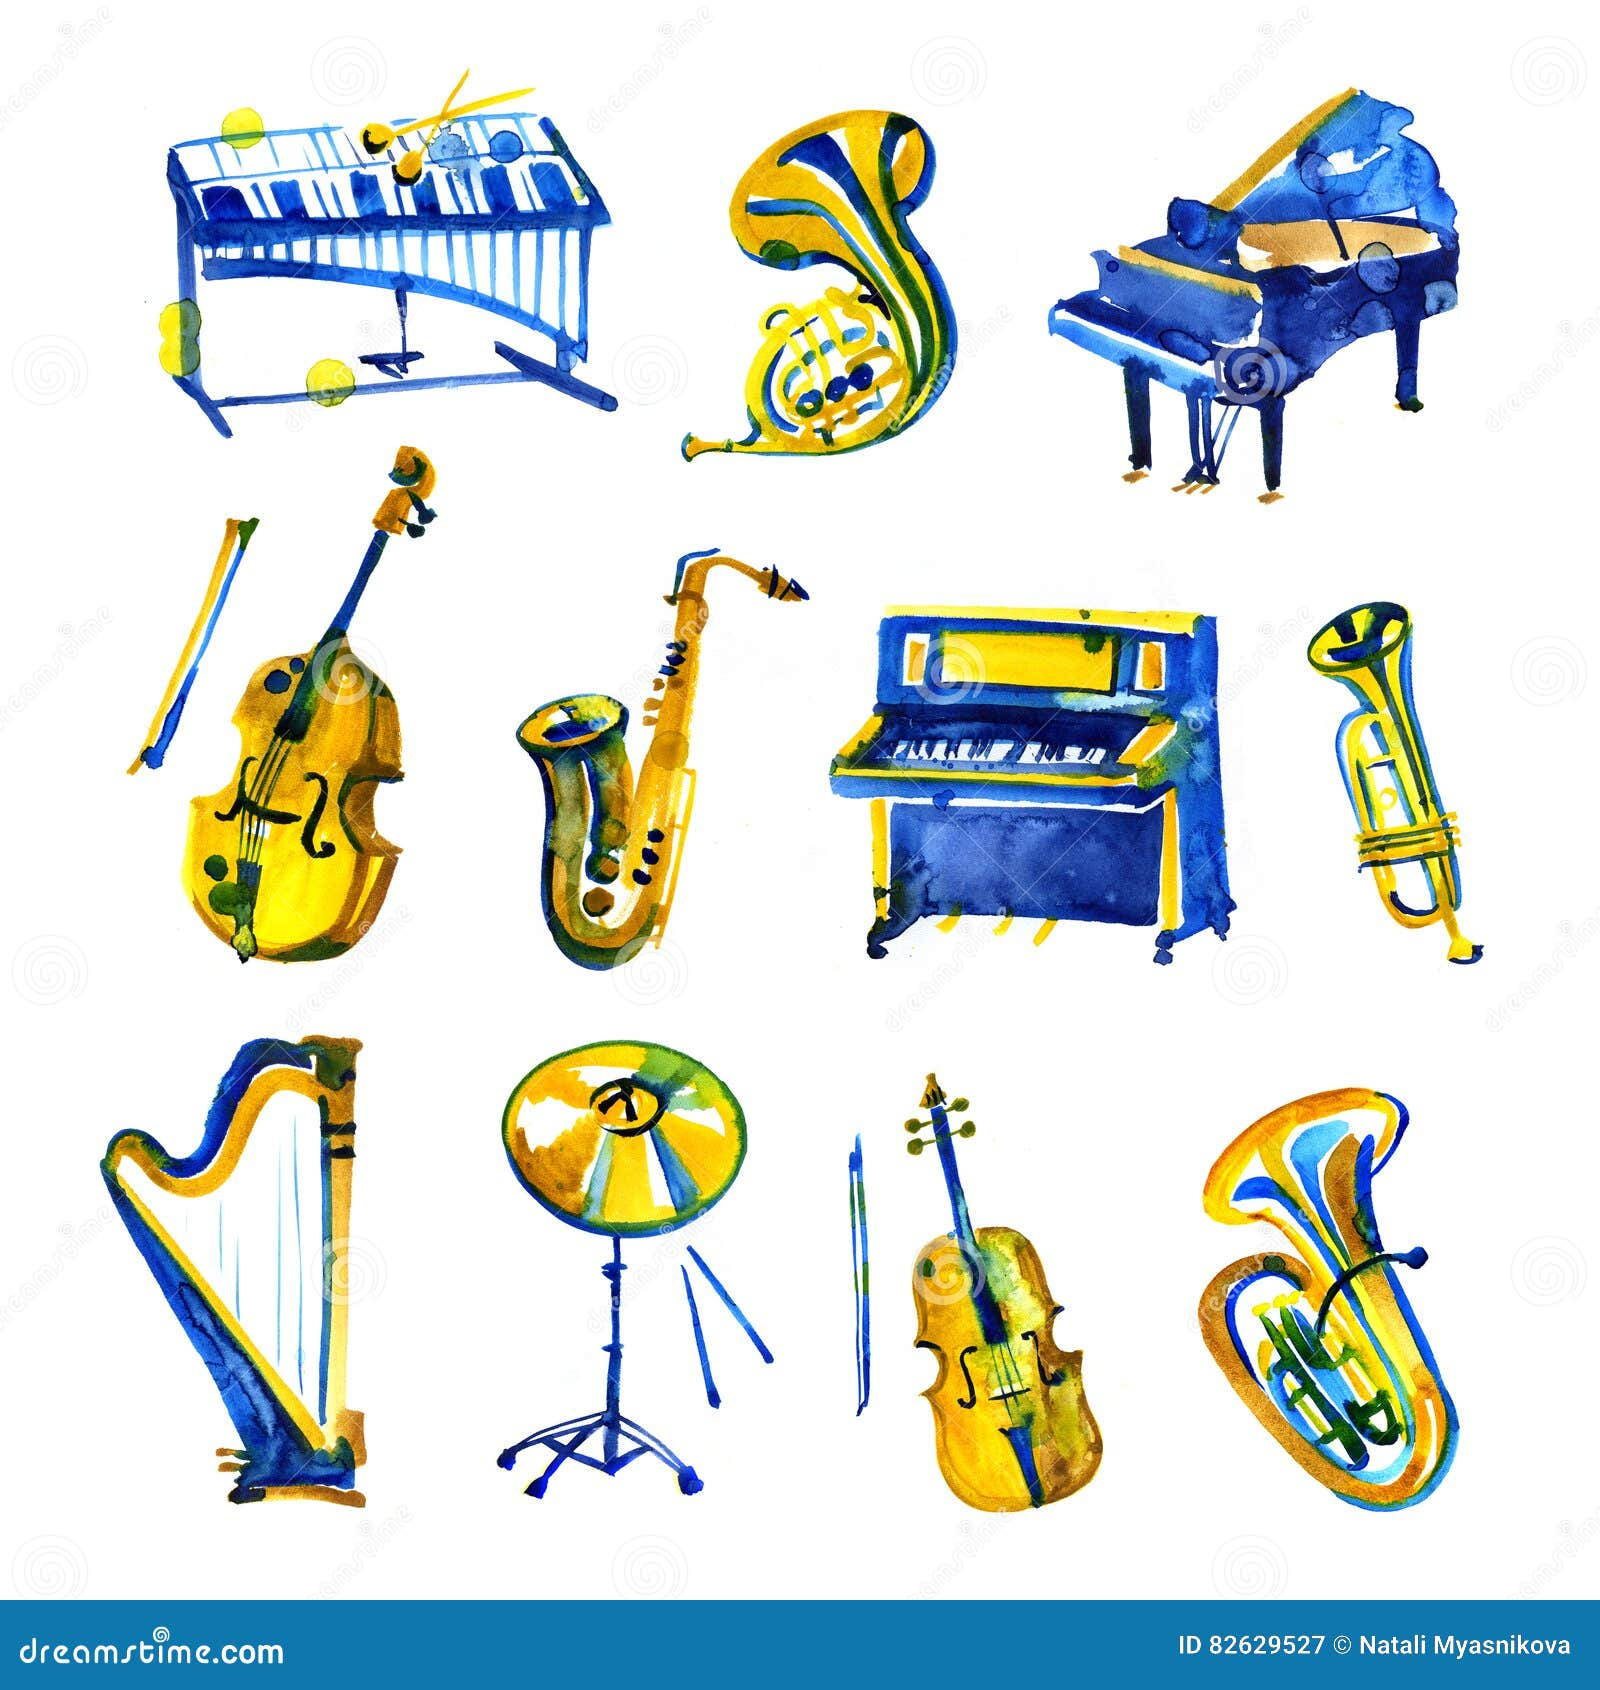Piano: (823, 552, 1331, 1078), (1032, 89, 1531, 550)
Saxophone: (462, 510, 859, 1016)
Violin: (62, 465, 526, 1040), (768, 1060, 1123, 1583)
